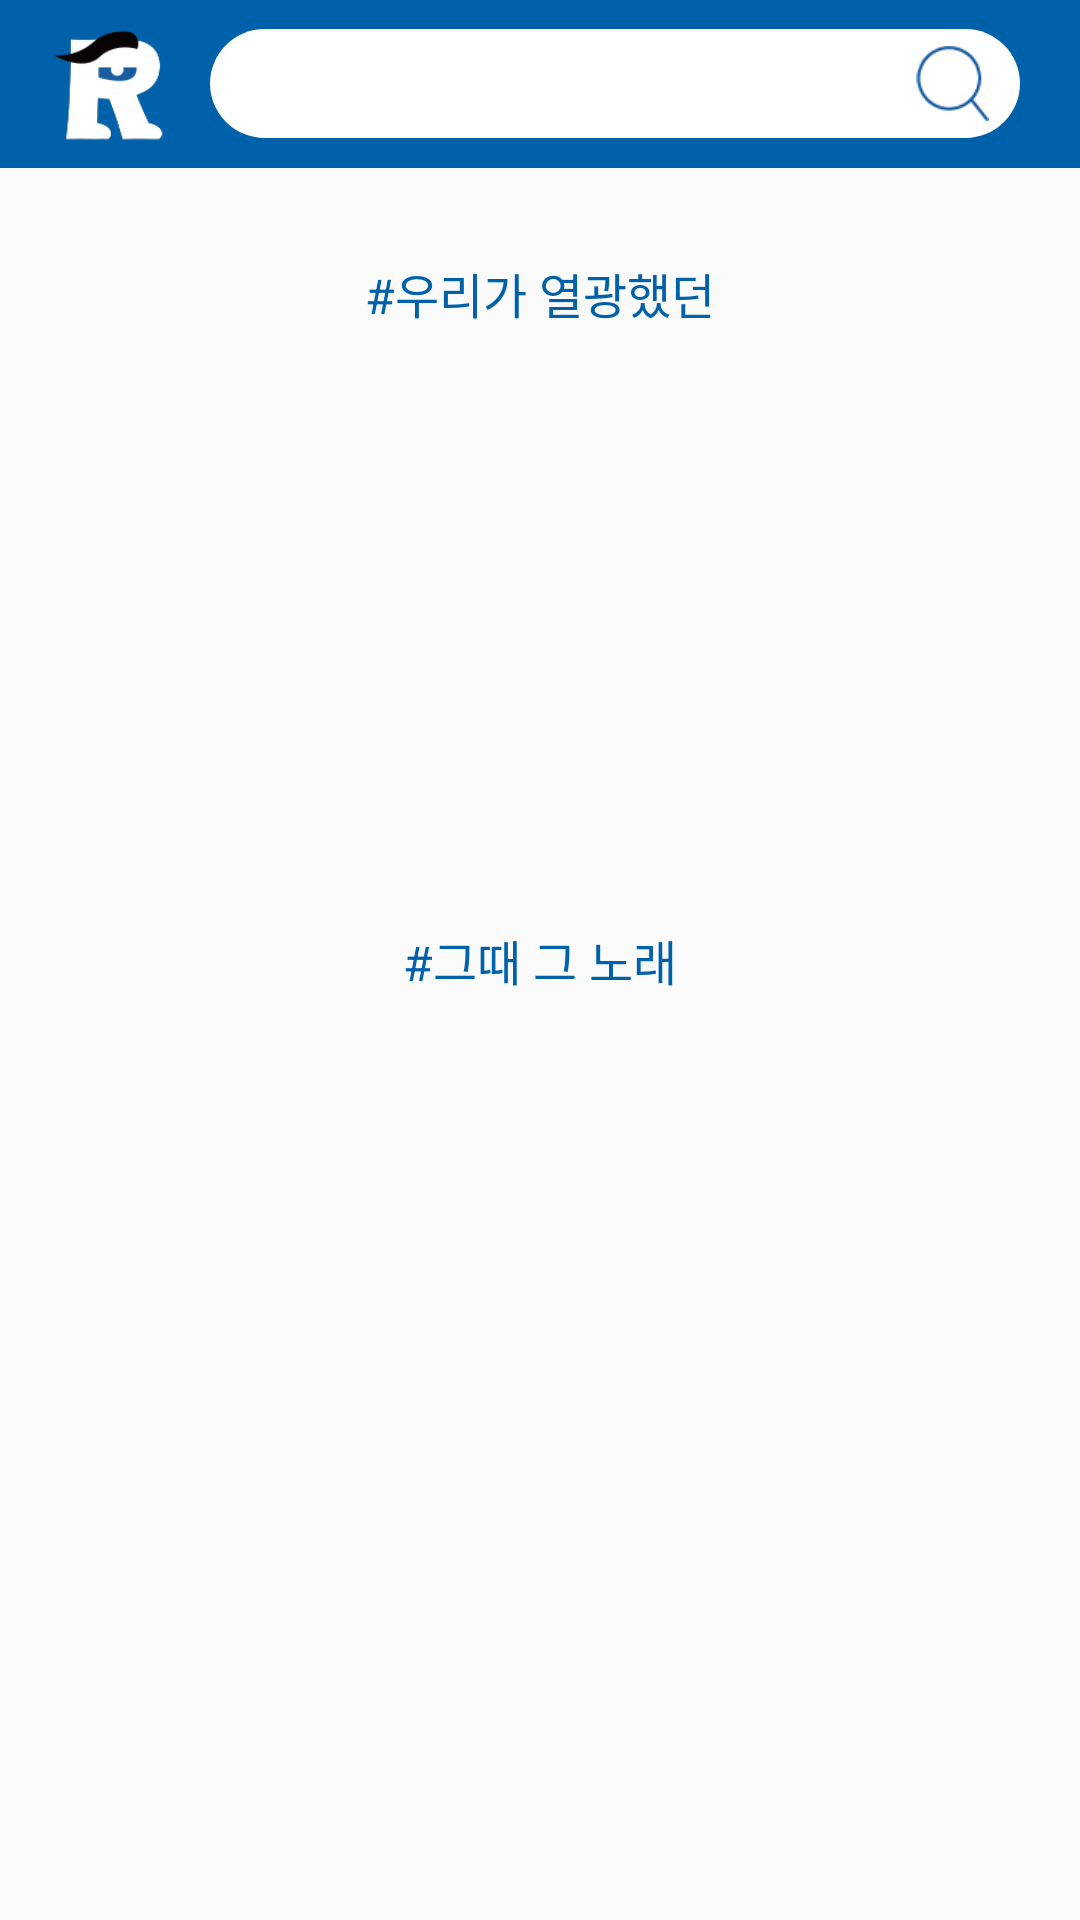

Named icons in this screenshot (1080w x 1920h) and their bounding boxes, (x1, y1, x2, y2):
search: (916, 46, 989, 121)
